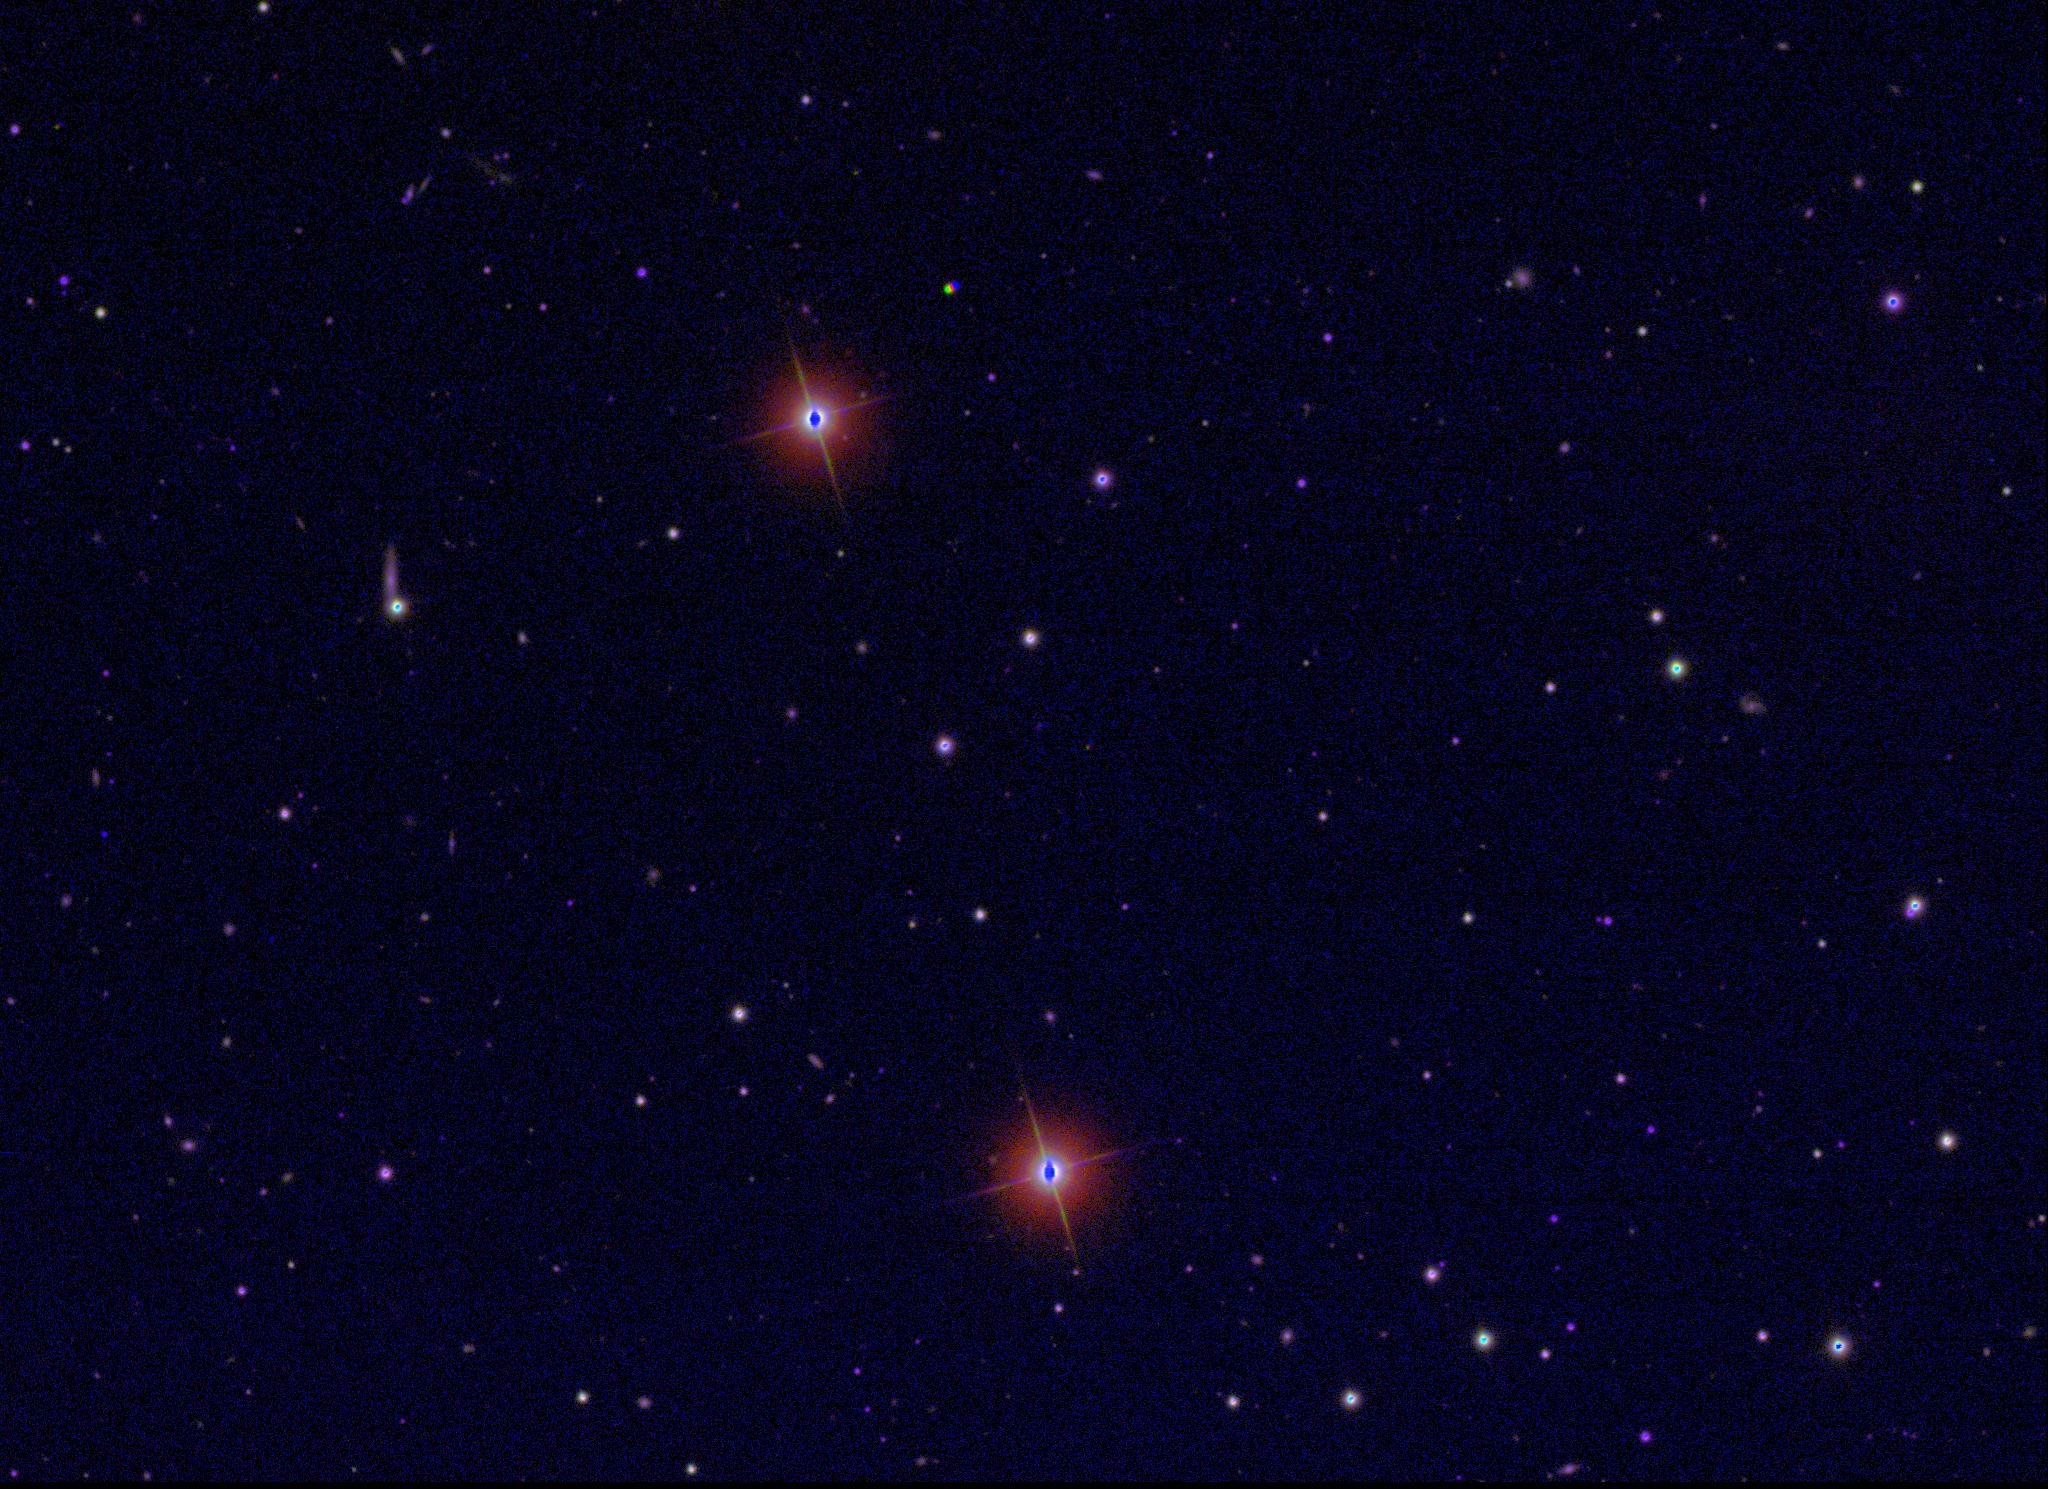L: (97, 826, 111, 838)
